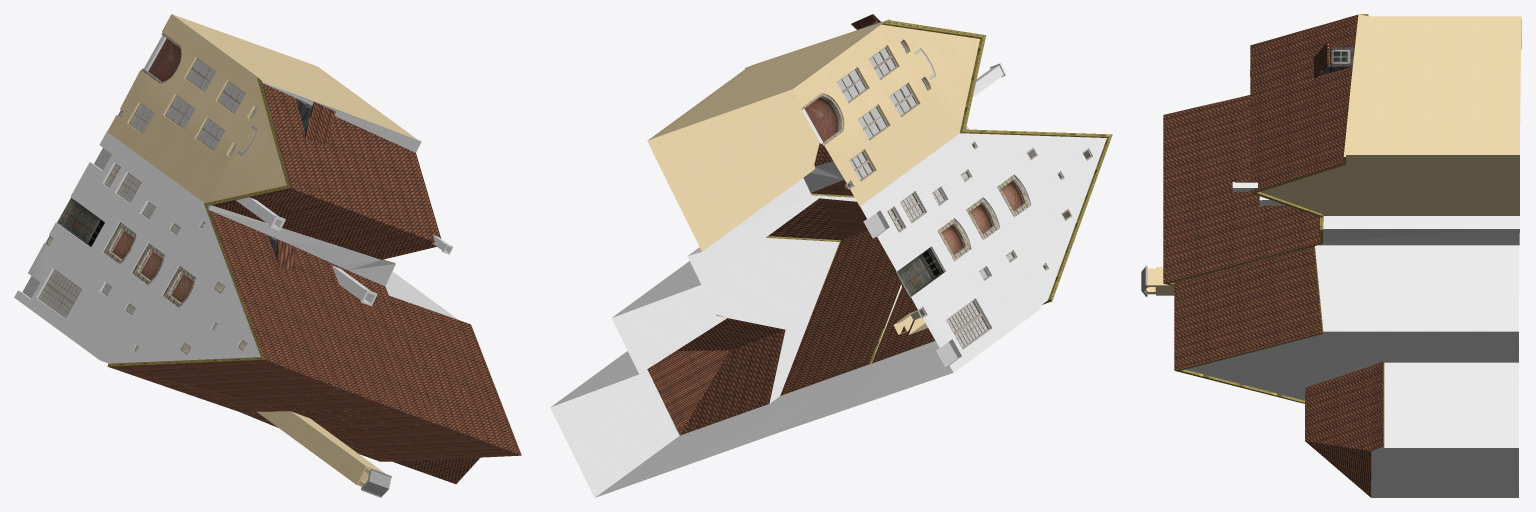
File: Lai_40_1.obj
The picture shows the model from 3 angles, left to right: view 1: azimuth 30°, elevation 25°; view 2: azimuth 150°, elevation 25°; view 3: azimuth 270°, elevation 25°; orthographic projection. The views are drawn at different scales.
Parts seen in each view (by area): view 1: Lai_40_1; view 2: Lai_40_1; view 3: Lai_40_1.
Boxes of the visible parts, x1,y1,x2,y2 form: Lai_40_1: (14,14,521,497); Lai_40_1: (550,14,1112,497); Lai_40_1: (1141,14,1521,497).
Bounding box in the file's own units: 25.82 × 27.86 × 24.08.
